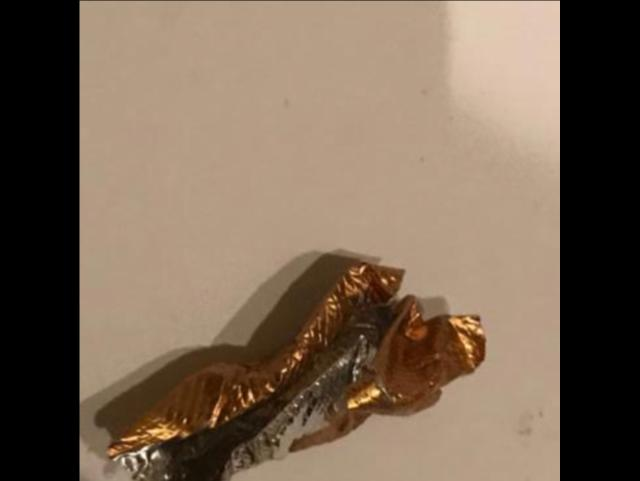metal: (110, 260, 486, 481)
